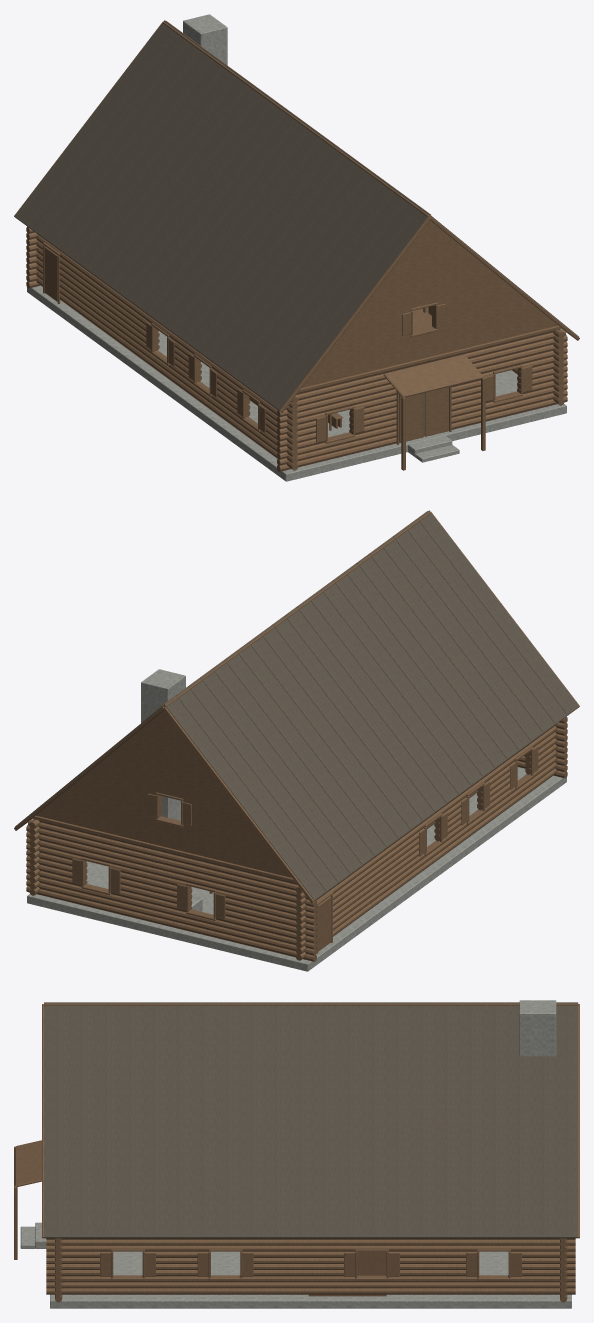
3 views of the same model, one above another, from view 1: azimuth 30°, elevation 25°; view 2: azimuth 150°, elevation 25°; view 3: azimuth 270°, elevation 25° (orthographic).
Parts seen in each view (by area): view 1: T03A_roof_left, T03A_gable_front, T03A_wall_front, T03A_wall_left, T03A_foundation, T03A_entry_canopy, T03A_verge_-1_-1, T03A_chimney, T03A_ridge, T03A_entry_leaf1, T03A_entry_leaf0, T03A_roof_right (+3 smaller); view 2: T03A_roof_left, T03A_wall_rear, T03A_gable_rear, T03A_wall_left, T03A_foundation, T03A_verge_1_-1, T03A_chimney, T03A_ridge, T03A_roof_right, T03A_wall_front, T03A_wall_right, T03A_kitchen_door_leaf0; view 3: T03A_roof_right, T03A_wall_right, T03A_foundation, T03A_chimney, T03A_ridge, T03A_entry_canopy, T03A_roof_left, bar_shelf_post, T03A_wall_front, T03A_wall_rear, T03A_verge_1_-1, T03A_verge_-1_-1.
Part boxes in pixels (box(x1,y1,x2,y2)): T03A_roof_left: box(15, 21, 429, 410); T03A_gable_front: box(302, 221, 557, 387); T03A_wall_front: box(277, 302, 567, 471); T03A_wall_left: box(36, 234, 298, 470); T03A_foundation: box(27, 285, 566, 481); T03A_entry_canopy: box(383, 354, 485, 470); T03A_verge_-1_-1: box(279, 216, 579, 412); T03A_chimney: box(183, 14, 227, 65); T03A_ridge: box(162, 21, 431, 216); T03A_entry_leaf1: box(424, 387, 448, 436); T03A_entry_leaf0: box(399, 393, 423, 442); T03A_roof_right: box(164, 20, 578, 338); T03A_roof_left: box(164, 511, 578, 900); T03A_wall_rear: box(26, 792, 316, 961); T03A_gable_rear: box(36, 711, 291, 877); T03A_wall_left: box(295, 724, 557, 960); T03A_foundation: box(27, 767, 566, 971); T03A_verge_1_-1: box(14, 706, 314, 902); T03A_chimney: box(141, 669, 185, 817); T03A_ridge: box(162, 511, 431, 706); T03A_roof_right: box(15, 510, 429, 828); T03A_wall_front: box(517, 716, 567, 778); T03A_wall_right: box(29, 819, 40, 895); T03A_kitchen_door_leaf0: box(318, 896, 331, 951); T03A_roof_right: box(44, 1003, 577, 1238); T03A_wall_right: box(46, 1238, 575, 1294); T03A_foundation: box(20, 1222, 571, 1308); T03A_chimney: box(519, 1000, 556, 1056); T03A_ridge: box(44, 1002, 578, 1006); T03A_entry_canopy: box(14, 1140, 41, 1259); T03A_roof_left: box(44, 1002, 577, 1003); bar_shelf_post: box(308, 1251, 386, 1296); T03A_wall_front: box(55, 1238, 62, 1302); T03A_wall_rear: box(560, 1238, 567, 1302); T03A_verge_1_-1: box(577, 1004, 579, 1238); T03A_verge_-1_-1: box(42, 1004, 44, 1238).
Size of the model in its own units: 14.28 by 11 by 23.2.
6 materials, 5 textured.
